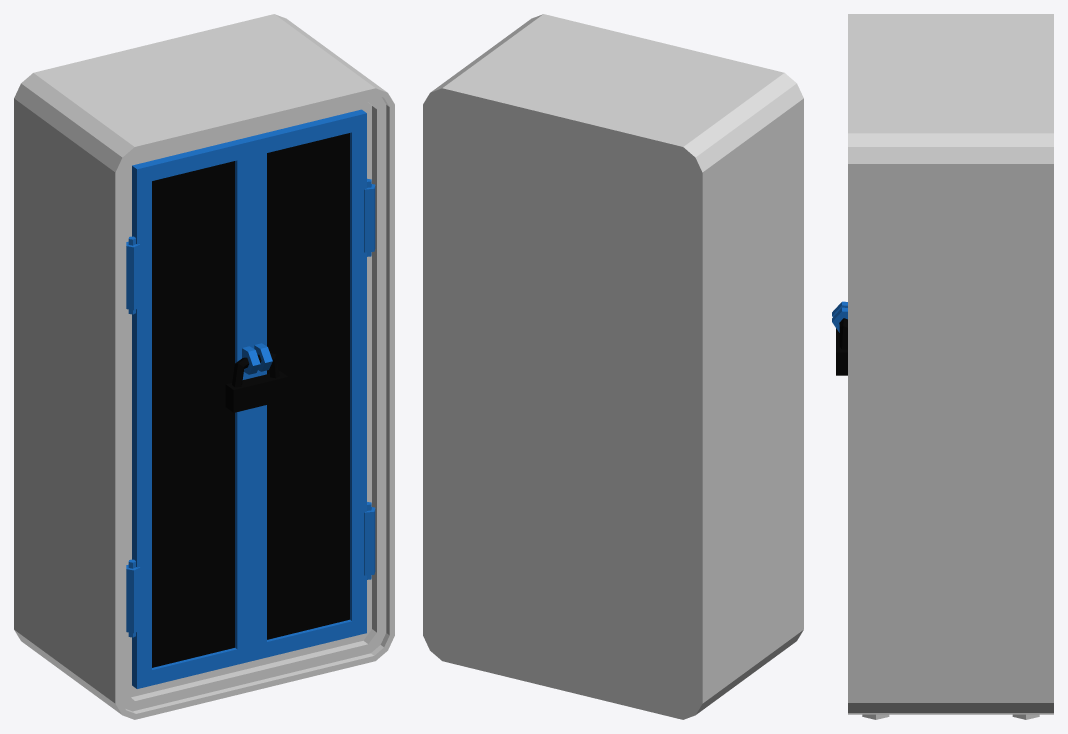
Rendered from SM_case.fbx.
3 views of the same model, side by side, from view 1: azimuth 30°, elevation 25°; view 2: azimuth 150°, elevation 25°; view 3: azimuth 270°, elevation 25° (orthographic).
Visible parts, largest first — view 1: Cube_41, Cylinder_41, Cylinder_37_2, Cylinder_37; view 2: Cube_41; view 3: Cube_41, Cylinder_37.
Part boxes in pixels (left/top/right/bottom): Cube_41: left=14, top=14, right=394, bottom=719; Cylinder_41: left=126, top=137, right=260, bottom=688; Cylinder_37_2: left=247, top=109, right=375, bottom=660; Cylinder_37: left=225, top=353, right=288, bottom=412; Cube_41: left=423, top=14, right=803, bottom=719; Cube_41: left=848, top=14, right=1053, bottom=719; Cylinder_37: left=836, top=318, right=847, bottom=375.
Size of the model in its own units: 101 by 200 by 68.3.
